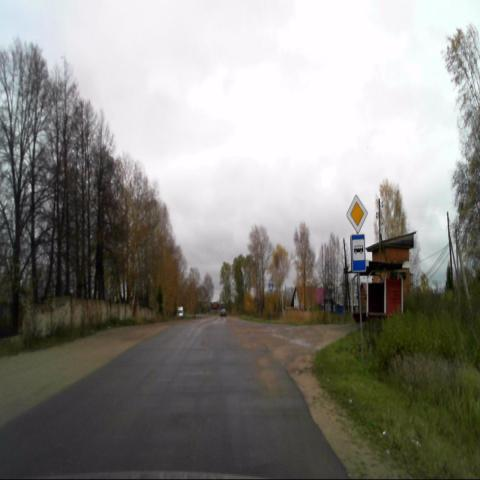5_16: (351, 234, 366, 272)
